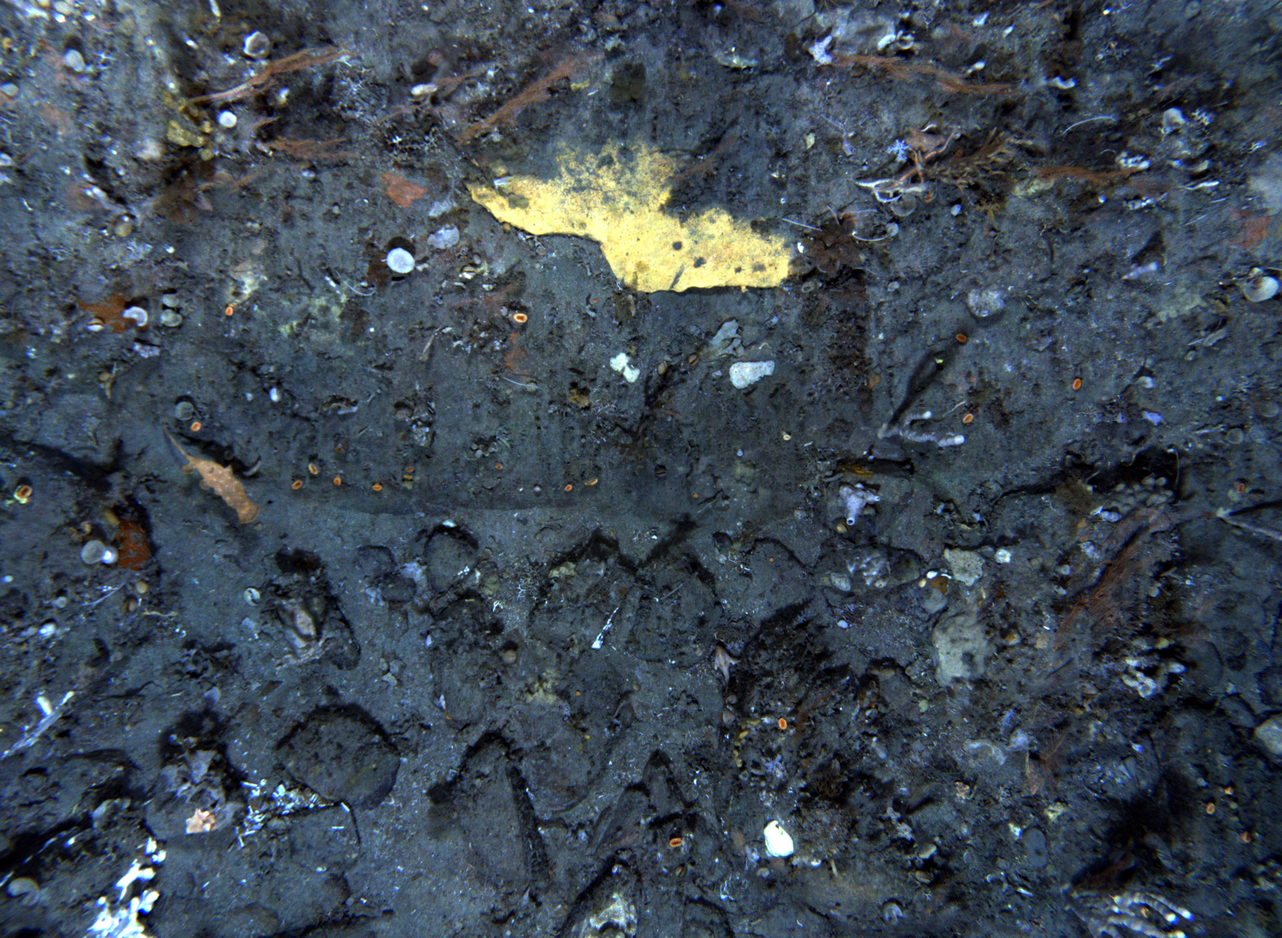Brachionichthyidae: (711, 644, 743, 692)
